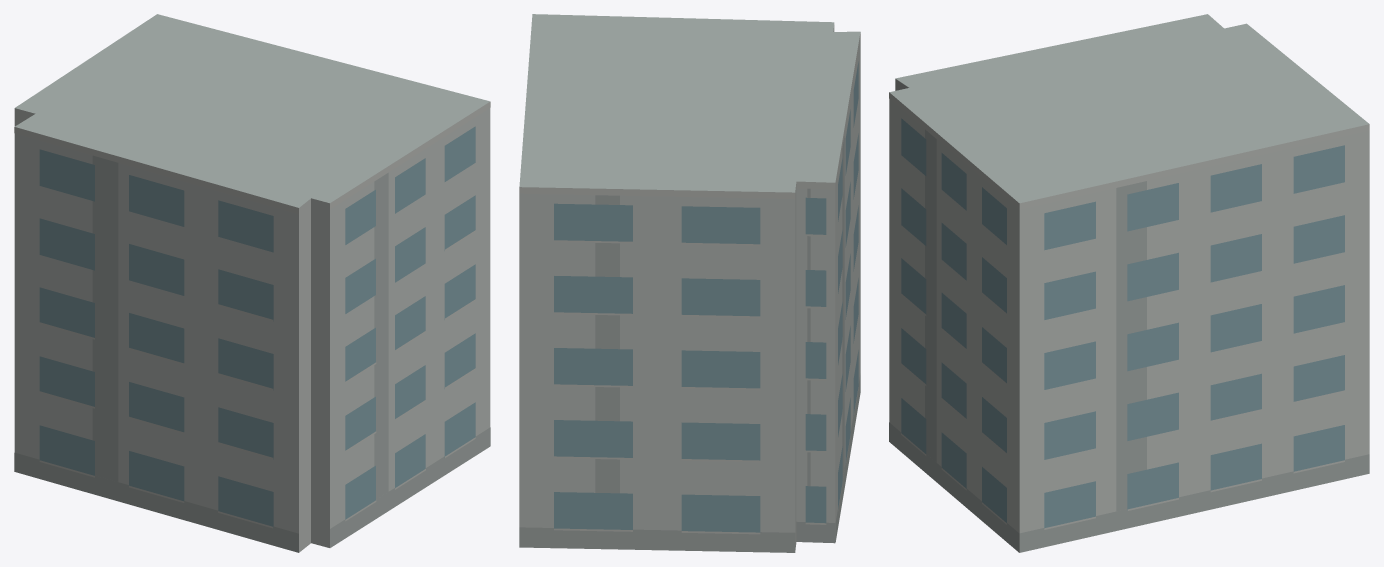
The model's file is survey-upis-32841203.glb.
3 views of the same model, side by side, from view 1: azimuth 30°, elevation 25°; view 2: azimuth 150°, elevation 25°; view 3: azimuth 270°, elevation 25° (orthographic). The views are drawn at different scales.
Visible parts, largest first — view 1: survey-upis-32841203.tmp; view 2: survey-upis-32841203.tmp; view 3: survey-upis-32841203.tmp.
Part boxes in pixels (left/top/right/bottom): survey-upis-32841203.tmp: left=14, top=14, right=490, bottom=552; survey-upis-32841203.tmp: left=519, top=14, right=860, bottom=552; survey-upis-32841203.tmp: left=889, top=14, right=1369, bottom=552.
Bounding box in the file's own units: 15.35 × 13.2 × 16.46.
